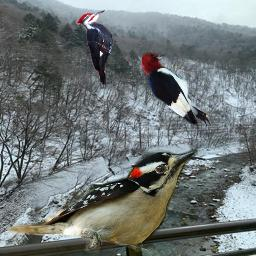Woodpecker: (8, 145, 198, 253), (142, 52, 213, 129), (76, 10, 117, 85)
